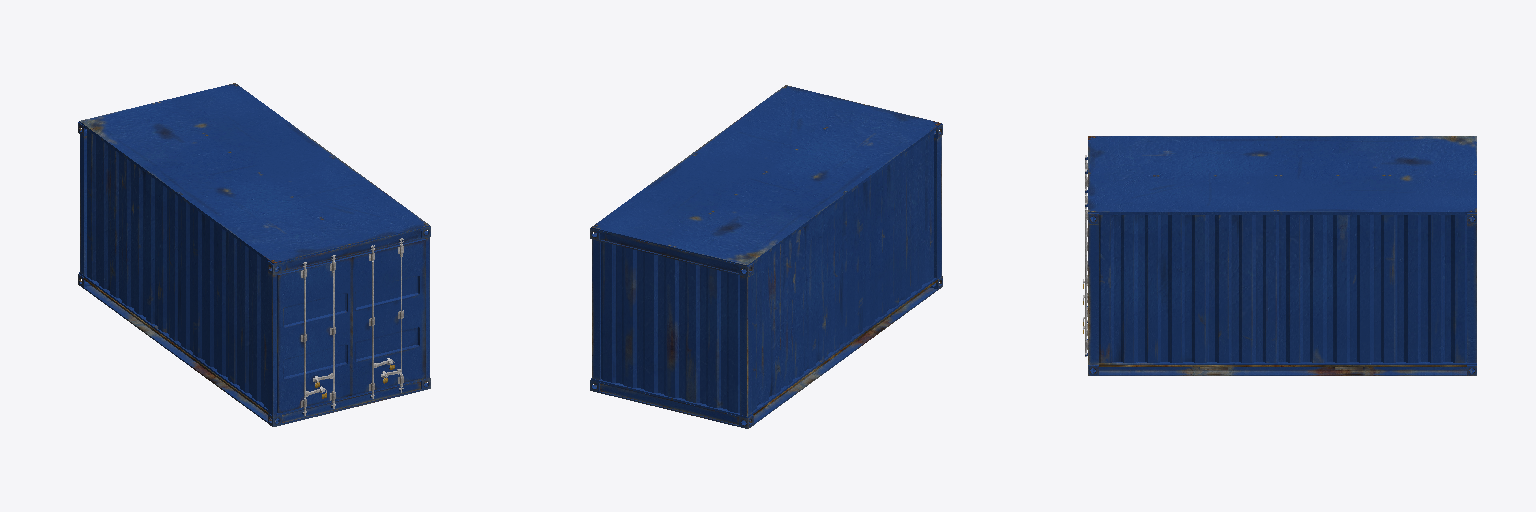
The picture shows the model from 3 angles: view 1: azimuth 30°, elevation 25°; view 2: azimuth 150°, elevation 25°; view 3: azimuth 270°, elevation 25°; orthographic projection.
Visible parts, largest first — view 1: Box152, Line19, Box98, Box025, Line33, Box151, Box154, Box91, Box034, Box153, Box150; view 2: Box152, Line19, Line20, Line33, Box146, Box147, Box034, Box148, Box153, Box91; view 3: Line35, Box152, Line34, Box150, Box148, Box153.
Part boxes in pixels (left/top/right/bottom): Box152: left=79, top=83, right=429, bottom=263; Line19: left=87, top=130, right=271, bottom=408; Box98: left=277, top=257, right=351, bottom=412; Box025: left=351, top=239, right=425, bottom=394; Line33: left=84, top=278, right=271, bottom=422; Box151: left=268, top=226, right=430, bottom=274; Box154: left=268, top=378, right=430, bottom=426; Box91: left=268, top=272, right=276, bottom=415; Box034: left=80, top=135, right=86, bottom=275; Box153: left=79, top=272, right=425, bottom=414; Box150: left=425, top=237, right=429, bottom=378; Box152: left=591, top=85, right=941, bottom=266; Line19: left=750, top=132, right=933, bottom=411; Line20: left=601, top=242, right=739, bottom=412; Line33: left=750, top=280, right=937, bottom=424; Box146: left=590, top=380, right=753, bottom=428; Box147: left=590, top=228, right=753, bottom=276; Box034: left=740, top=275, right=751, bottom=416; Box148: left=592, top=240, right=600, bottom=379; Box153: left=591, top=278, right=936, bottom=417; Box91: left=934, top=136, right=941, bottom=279; Line35: left=1099, top=215, right=1466, bottom=362; Box152: left=1088, top=136, right=1476, bottom=214; Line34: left=1099, top=365, right=1466, bottom=375; Box150: left=1088, top=225, right=1098, bottom=364; Box148: left=1467, top=225, right=1476, bottom=362; Box153: left=1099, top=362, right=1476, bottom=364.
Bounding box in the file's own units: 2.76 × 2.73 × 5.97.
4 materials, 3 textured.